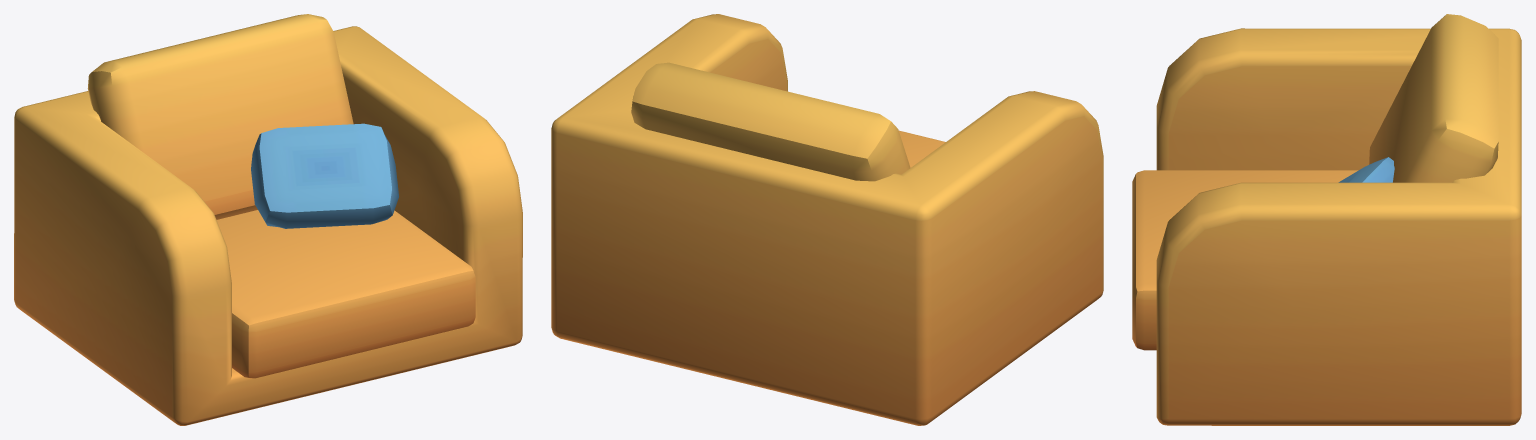
File: armchair_pillows.glb
The picture shows the model from 3 angles, left to right: view 1: azimuth 30°, elevation 25°; view 2: azimuth 150°, elevation 25°; view 3: azimuth 270°, elevation 25°; orthographic projection. The views are drawn at different scales.
Parts seen in each view (by area): view 1: armchair_pillows; view 2: armchair_pillows; view 3: armchair_pillows.
Boxes of the visible parts, bbox=[...] form: armchair_pillows: bbox=[14, 14, 522, 425]; armchair_pillows: bbox=[551, 14, 1103, 425]; armchair_pillows: bbox=[1132, 14, 1521, 425].
Bounding box in the file's own units: 1.8 × 1.22 × 1.6.
Materials: 1 (1 with a texture image).
